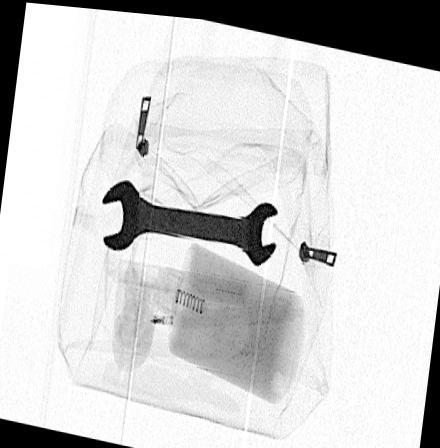Wrench: (97, 177, 278, 264)
